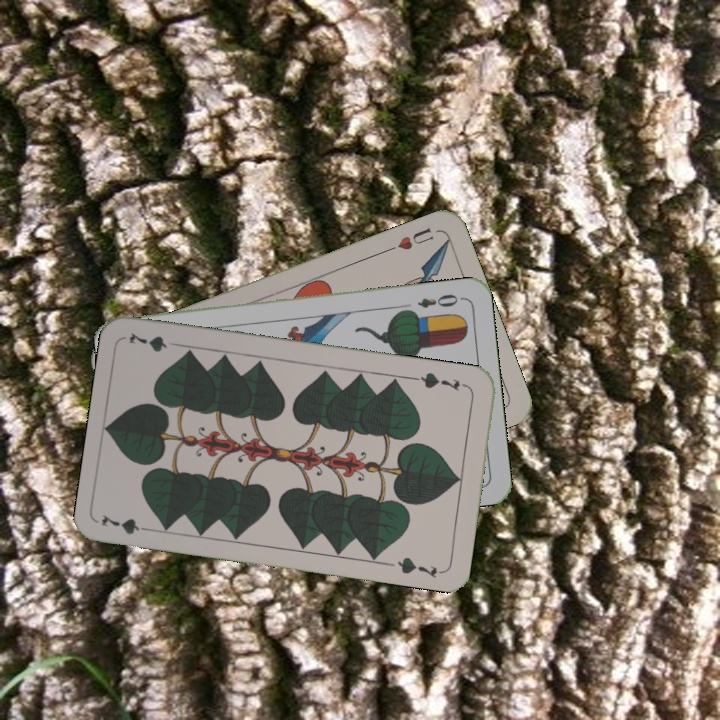EO: (414, 290, 466, 311)
G7: (98, 510, 157, 537), (411, 368, 470, 393)
HU: (383, 223, 436, 254)
